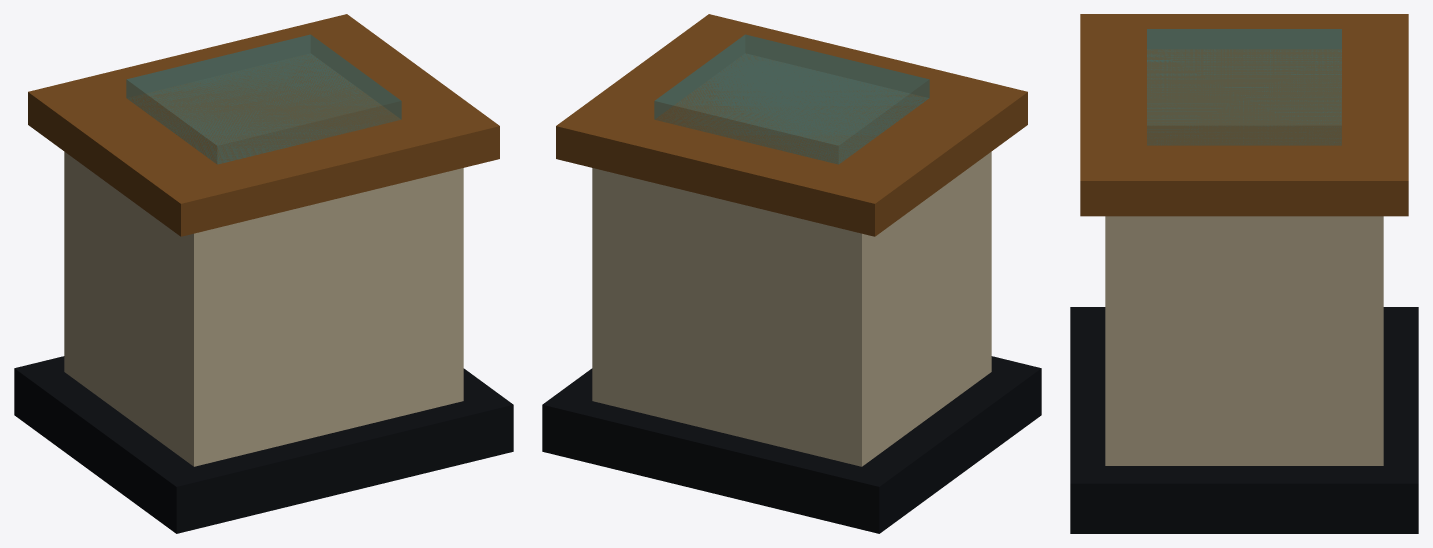
File: nf_display_plinth.obj
3 views of the same model, side by side, from view 1: azimuth 30°, elevation 25°; view 2: azimuth 150°, elevation 25°; view 3: azimuth 270°, elevation 25° (orthographic). The views are drawn at different scales.
Visible parts, largest first — view 1: body, top_step, bottom_step, evidence_slot; view 2: body, top_step, bottom_step, evidence_slot; view 3: body, top_step, bottom_step, evidence_slot.
Part boxes in pixels (left/top/right/bottom): body: left=64, top=151, right=463, bottom=466; top_step: left=28, top=14, right=499, bottom=236; bottom_step: left=14, top=356, right=513, bottom=533; evidence_slot: left=126, top=34, right=401, bottom=164; body: left=592, top=151, right=991, bottom=466; top_step: left=556, top=14, right=1027, bottom=236; bottom_step: left=542, top=356, right=1041, bottom=533; evidence_slot: left=654, top=34, right=929, bottom=164; body: left=1105, top=216, right=1383, bottom=465; top_step: left=1080, top=14, right=1408, bottom=216; bottom_step: left=1070, top=307, right=1418, bottom=533; evidence_slot: left=1147, top=29, right=1341, bottom=145.
Size of the model in its own units: 1.5 by 1.46 by 1.25.
